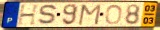8: (124, 3, 141, 25)
9: (62, 3, 80, 26)
H: (17, 4, 41, 26)
M: (77, 4, 103, 26)
O: (104, 4, 123, 25)
S: (36, 4, 59, 26)
